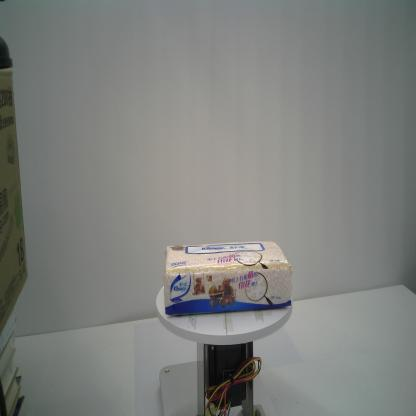Tissue: (164, 240, 292, 316)
